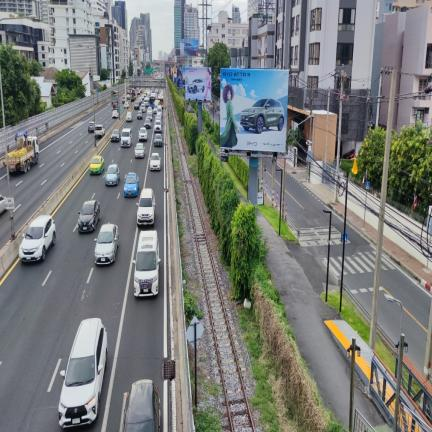car: (59, 318, 107, 428), (121, 380, 160, 431), (19, 215, 55, 262), (241, 98, 284, 133), (94, 224, 118, 264), (77, 200, 100, 232), (137, 188, 155, 226), (105, 164, 119, 185), (187, 78, 205, 93), (150, 153, 160, 170), (134, 142, 144, 157), (185, 43, 197, 55), (139, 127, 147, 140), (154, 133, 162, 146), (0, 194, 5, 214), (111, 130, 119, 141), (155, 119, 161, 133), (146, 107, 153, 118), (144, 118, 151, 128), (88, 121, 94, 132), (112, 109, 119, 118), (126, 112, 132, 122), (146, 113, 152, 122), (140, 104, 146, 112), (137, 110, 142, 119), (156, 112, 161, 121), (134, 101, 139, 109), (125, 100, 130, 108), (112, 102, 117, 109), (157, 106, 162, 113), (131, 95, 135, 103), (153, 107, 157, 113), (122, 97, 125, 104), (150, 88, 154, 93), (155, 88, 159, 93), (127, 90, 130, 94)
human: (220, 83, 239, 148), (204, 68, 211, 100)
pickup: (94, 125, 105, 137)
taxi: (124, 172, 139, 196), (89, 155, 104, 173), (127, 94, 130, 101)
truck: (8, 131, 39, 172)
van: (133, 230, 160, 296), (121, 128, 131, 146), (144, 96, 148, 106), (157, 105, 162, 112), (155, 99, 159, 107)
